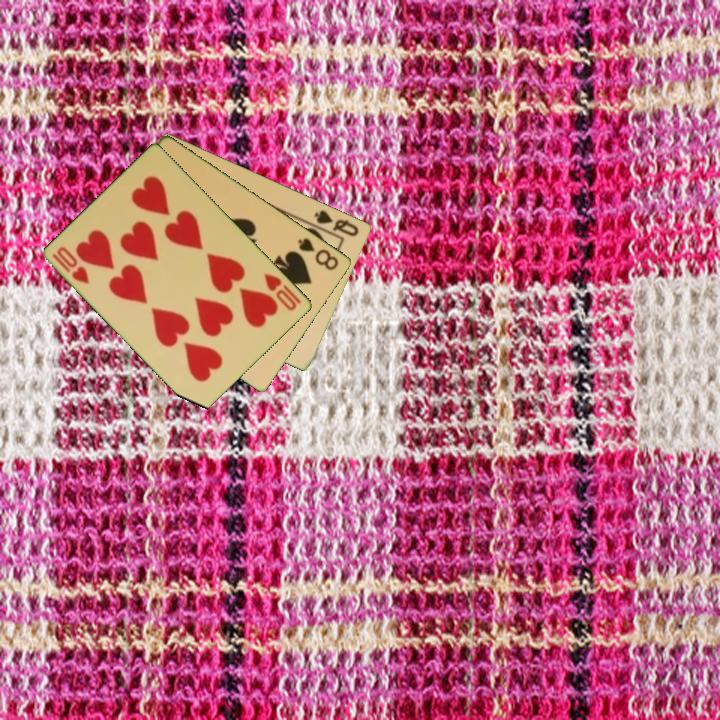10h: (261, 270, 304, 314), (49, 243, 92, 287)
8s: (295, 234, 342, 273)
Qs: (311, 206, 362, 239)
